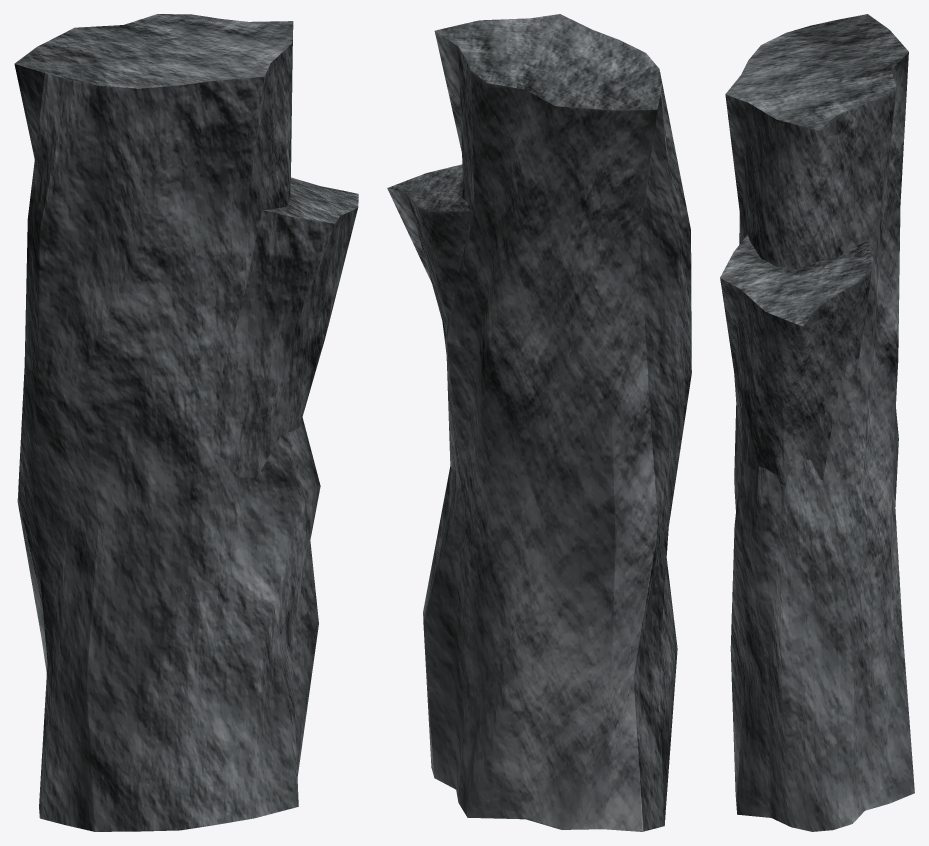
The model's file is stonepillar.FBX.
3 renders of one model, left to right at view 1: azimuth 30°, elevation 25°; view 2: azimuth 150°, elevation 25°; view 3: azimuth 270°, elevation 25°, orthographic. The views are drawn at different scales.
Parts seen in each view (by area): view 1: Cylinder002; view 2: Cylinder002; view 3: Cylinder002.
Part boxes in pixels (left/top/right/bottom): Cylinder002: left=14, top=14, right=358, bottom=831; Cylinder002: left=387, top=14, right=691, bottom=831; Cylinder002: left=720, top=14, right=914, bottom=831.
Bounding box in the file's own units: 103 × 233 × 58.64.
1 material, 1 textured.
